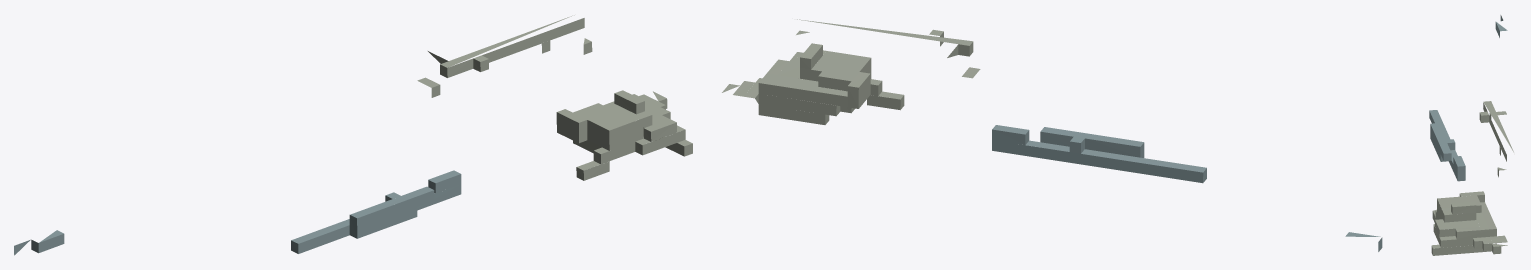
3 renders of one model, left to right at view 1: azimuth 30°, elevation 25°; view 2: azimuth 150°, elevation 25°; view 3: azimuth 270°, elevation 25°, orthographic. The views are drawn at different scales.
Parts seen in each view (by area): view 1: measured-industrial; view 2: measured-industrial; view 3: measured-industrial.
Part boxes in pixels (bbox=[...]): measured-industrial: bbox=[14, 15, 692, 255]; measured-industrial: bbox=[722, 19, 1382, 251]; measured-industrial: bbox=[1429, 15, 1513, 255].
Bounding box in the file's own units: 99.45 × 16.73 × 16.11.
